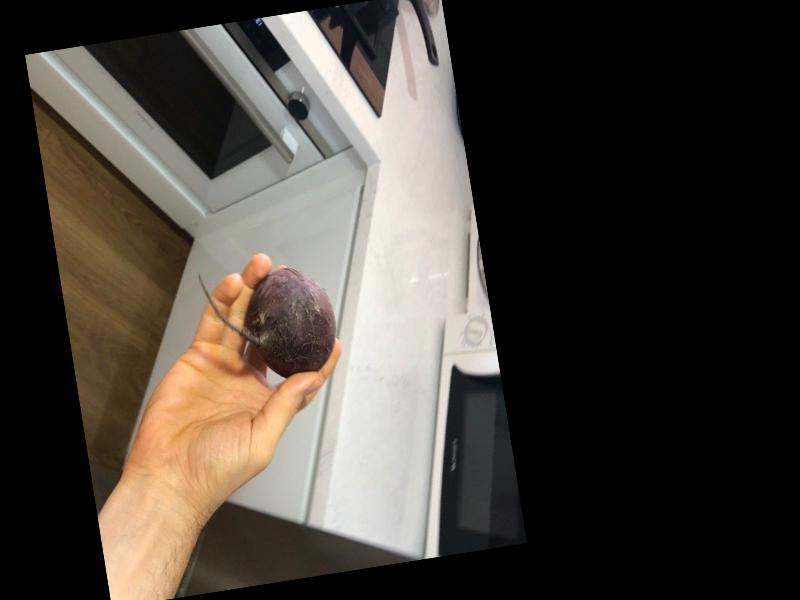Beet: (196, 251, 343, 388)
